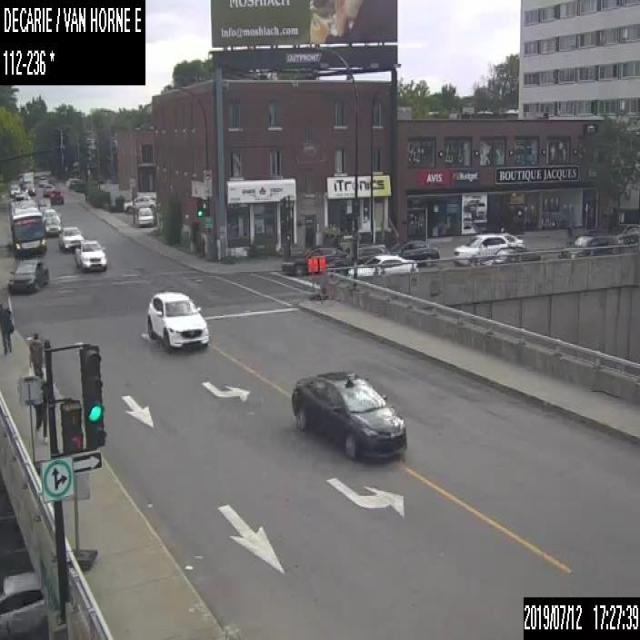bus: (8, 199, 47, 256)
construction: (62, 466, 98, 572), (18, 373, 48, 474), (308, 256, 326, 272)
pedestrian: (26, 372, 48, 446), (0, 302, 15, 354), (27, 331, 42, 374), (282, 230, 291, 258)
vehicle: (291, 370, 407, 460), (146, 289, 209, 351), (452, 230, 534, 266), (0, 571, 45, 636), (281, 242, 349, 274), (347, 252, 419, 278), (559, 233, 618, 259), (477, 246, 540, 270), (5, 256, 48, 291), (390, 240, 440, 266), (72, 238, 106, 270), (610, 221, 639, 250), (58, 225, 83, 253), (356, 242, 390, 262), (123, 193, 155, 213), (44, 215, 61, 235), (137, 206, 153, 227), (42, 207, 56, 225), (50, 187, 64, 204), (23, 170, 33, 189), (24, 179, 35, 194), (42, 182, 52, 196), (10, 183, 19, 196), (38, 176, 46, 187)
